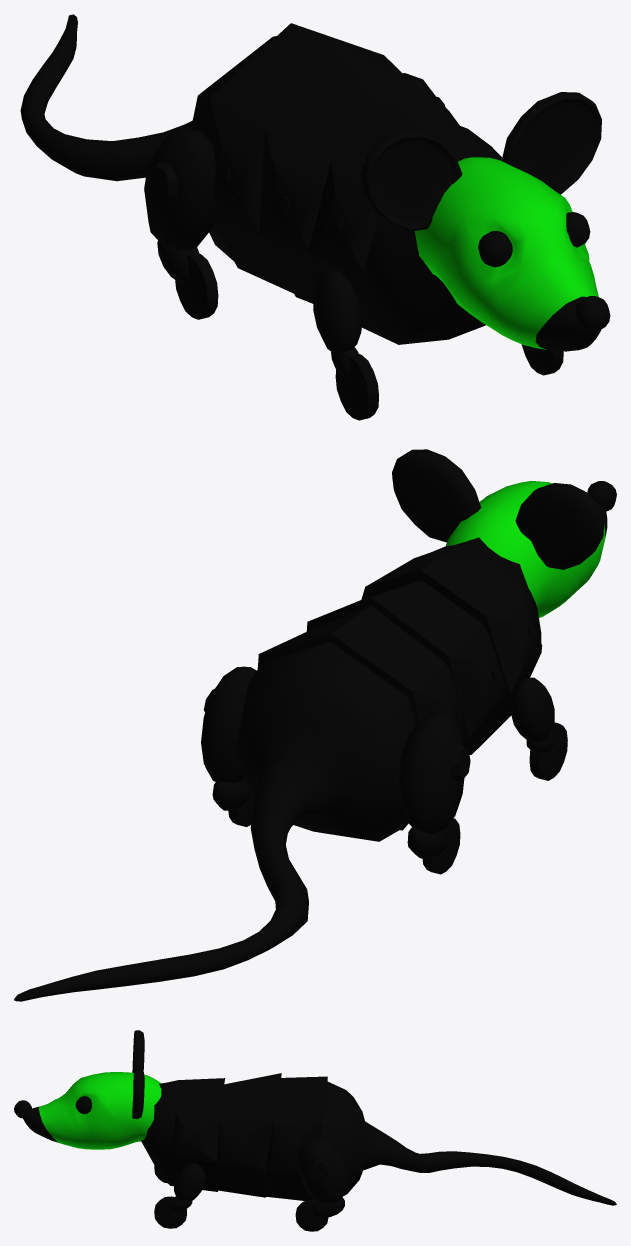
The model's file is Rat.fbx.
The picture shows the model from 3 angles, top to bottom: view 1: azimuth 30°, elevation 25°; view 2: azimuth 150°, elevation 25°; view 3: azimuth 270°, elevation 25°; orthographic projection. The views are drawn at different scales.
Parts seen in each view (by area): view 1: Rat_Low; view 2: Rat_Low; view 3: Rat_Low.
Boxes of the visible parts, x1,y1,x2,y2 form: Rat_Low: (20,14,610,420); Rat_Low: (14,449,616,1001); Rat_Low: (14,1030,616,1231).
Bounding box in the file's own units: 0.1633 × 0.1638 × 0.5873.
